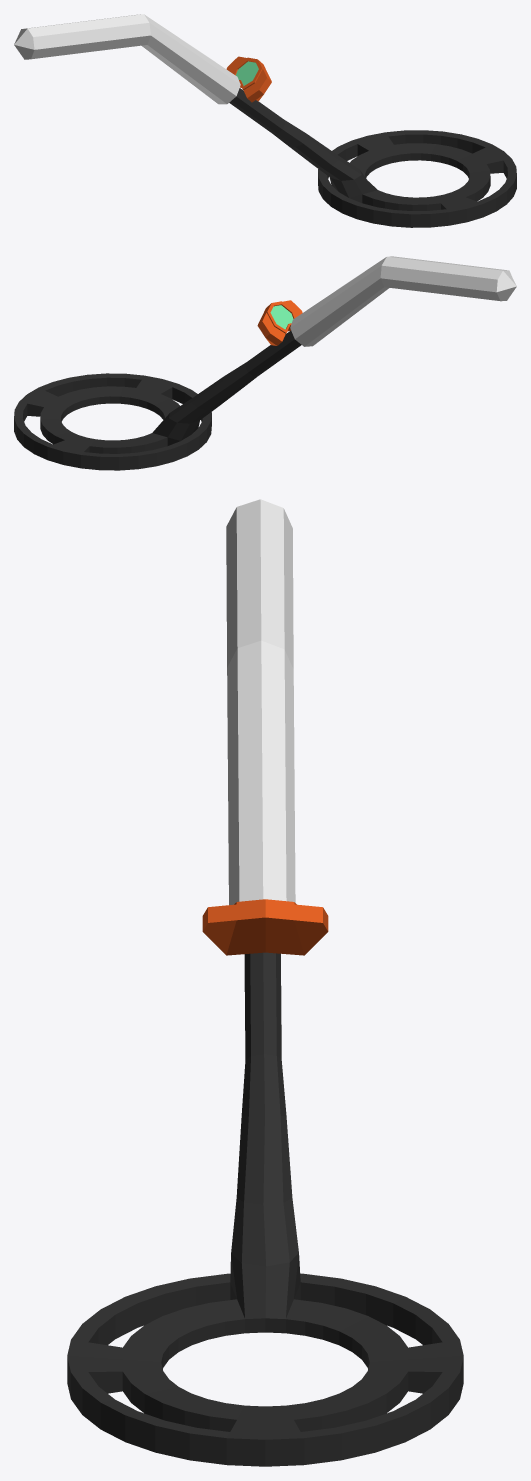
File: metaldetectoradam.fbx
The picture shows the model from 3 angles, top to bottom: view 1: azimuth 30°, elevation 25°; view 2: azimuth 150°, elevation 25°; view 3: azimuth 270°, elevation 25°; orthographic projection. The views are drawn at different scales.
Visible parts, largest first — view 1: Detector, Cube; view 2: Detector, Cube; view 3: Detector, Cube.
Boxes of the visible parts, x1,y1,x2,y2 form: Detector: (14, 14, 516, 227); Cube: (226, 56, 271, 102); Detector: (14, 256, 516, 470); Cube: (257, 300, 302, 345); Detector: (67, 499, 463, 1466); Cube: (202, 899, 328, 955).
Size of the model in its own units: 184 by 90.88 by 64.79.
